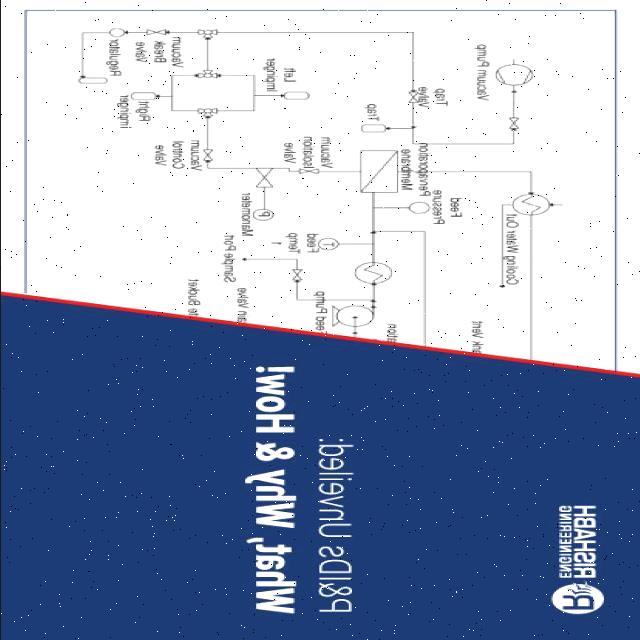3 Way Globe Valve: (190, 68, 223, 82), (193, 27, 221, 42), (193, 104, 216, 120)
Centrifugal Pump: (327, 302, 374, 330)
Gate Valve: (253, 167, 276, 189), (294, 168, 324, 180), (285, 268, 308, 282), (506, 116, 521, 130), (406, 88, 418, 105), (200, 150, 218, 160)
